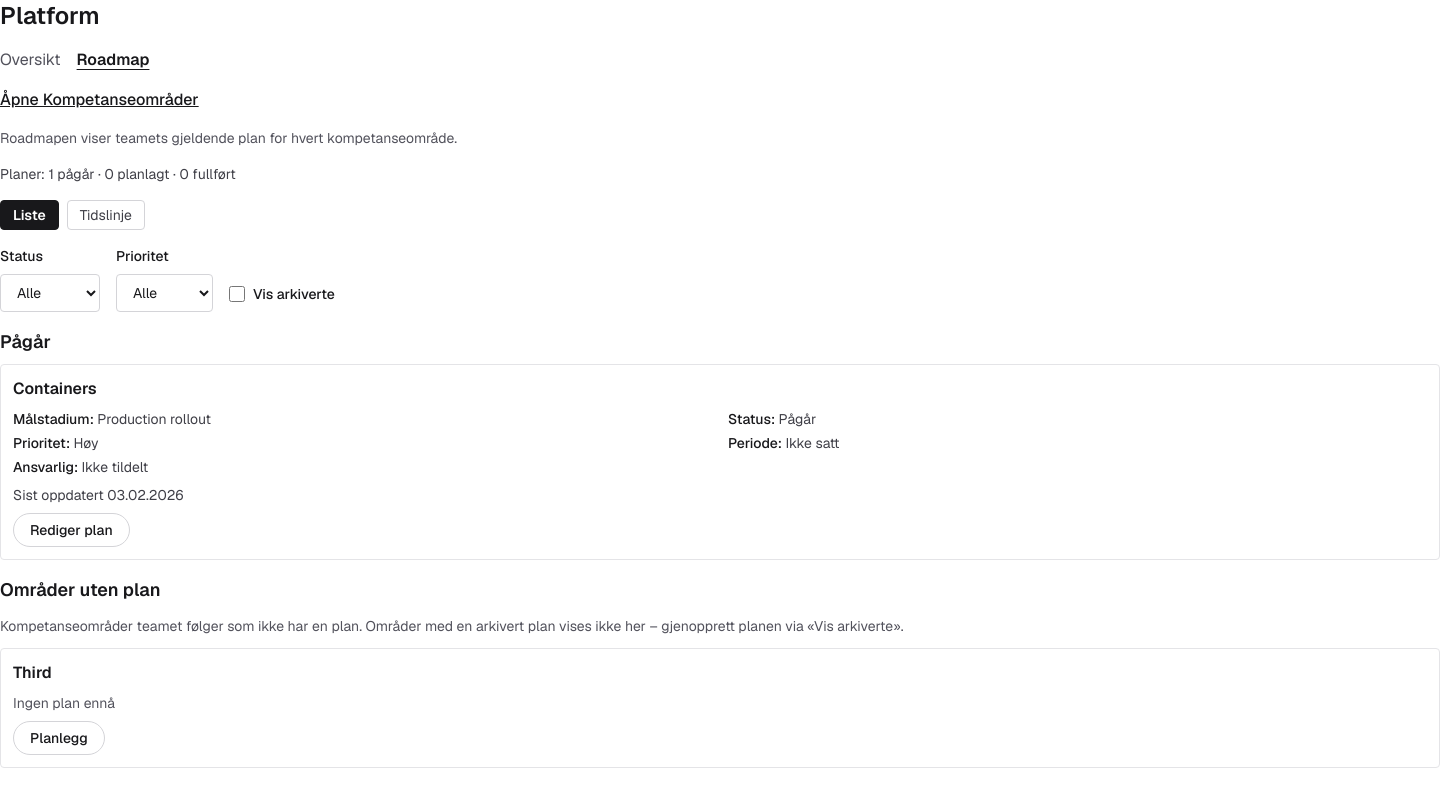
it: Roadmap page edge states — archived plans › offers only restore on a normal archived plan (list)
Expected: the heading "Containers" is shown, 13,378 -> 97,399
Step 1. Click the checkbox labelled "Vis arkiverte" → (237, 294), box 229,286 -> 245,302
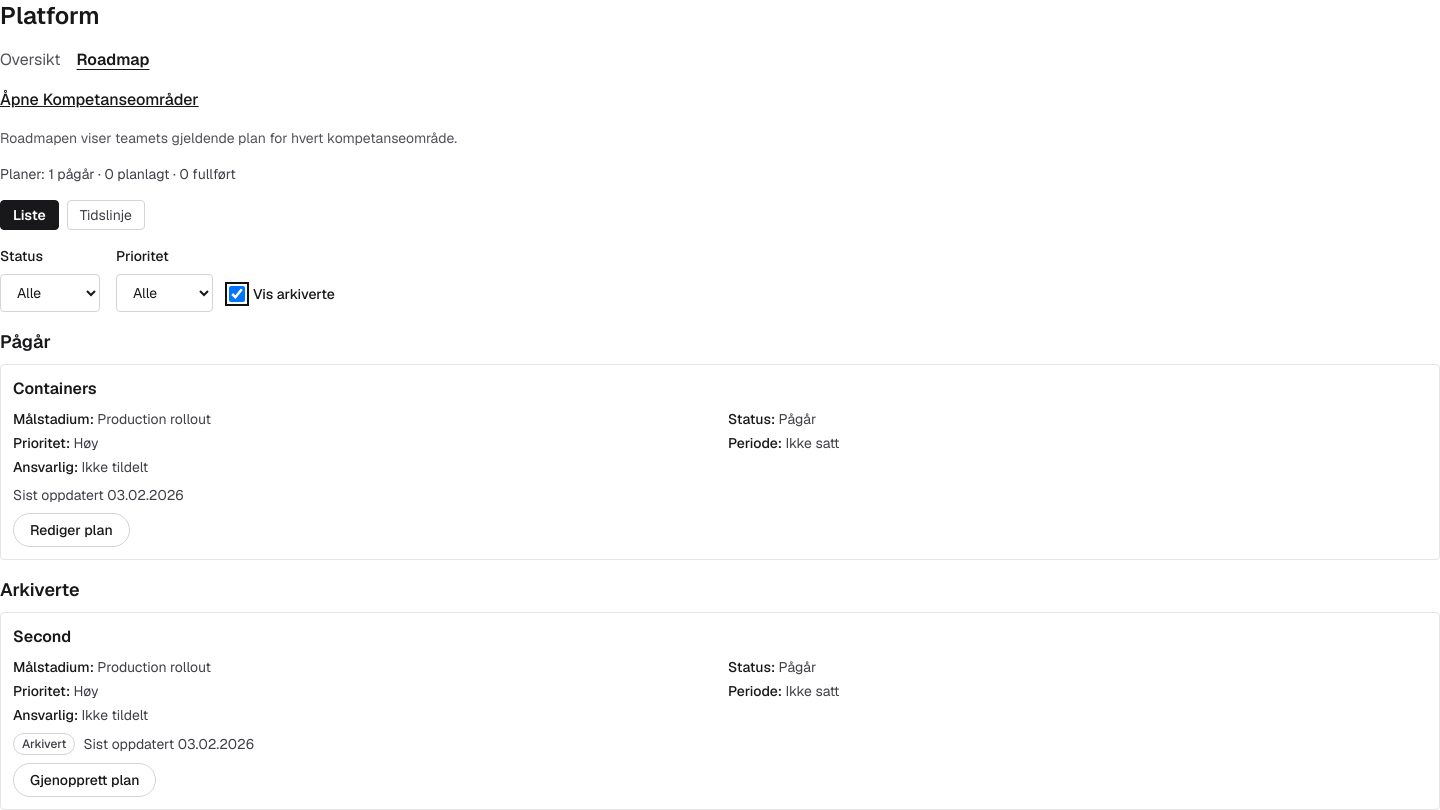
Expected: the button with aria-label "Gjenopprett plan – Second" is shown, 13,763 -> 156,797
Expected: the element "Second" shows "Arkivert", 22,736 -> 66,752
